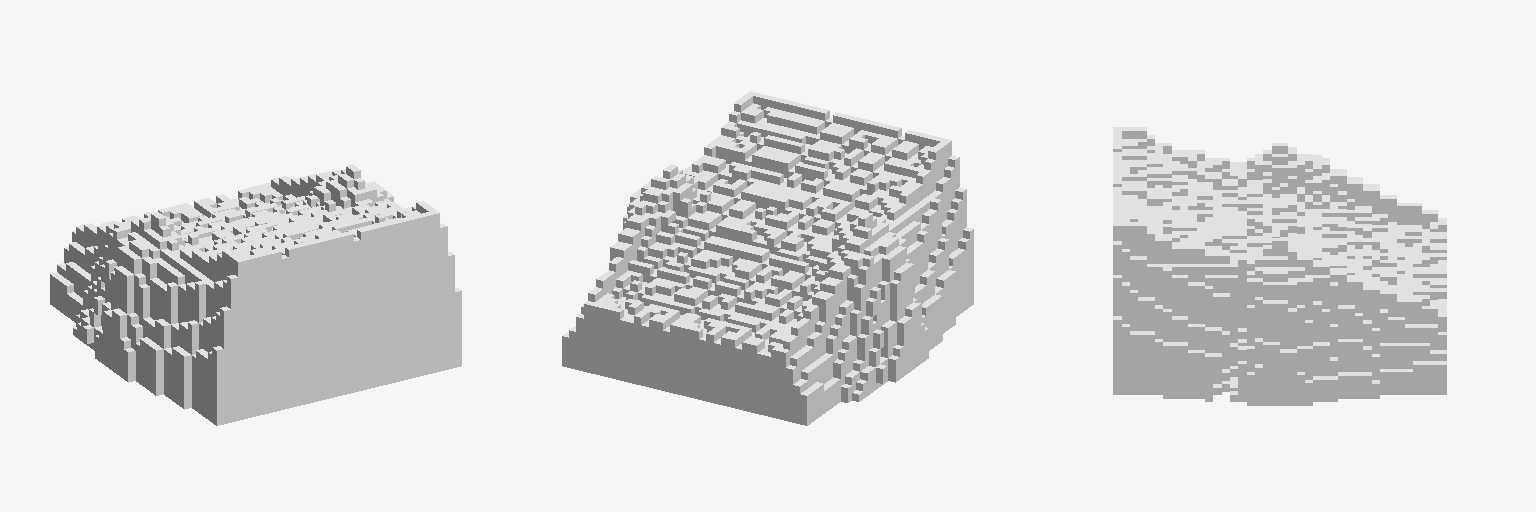
File: Stairs_Magma.obj
3 views of the same model, side by side, from view 1: azimuth 30°, elevation 25°; view 2: azimuth 150°, elevation 25°; view 3: azimuth 270°, elevation 25° (orthographic).
Bounding box in the file's own units: 40 × 21 × 40.